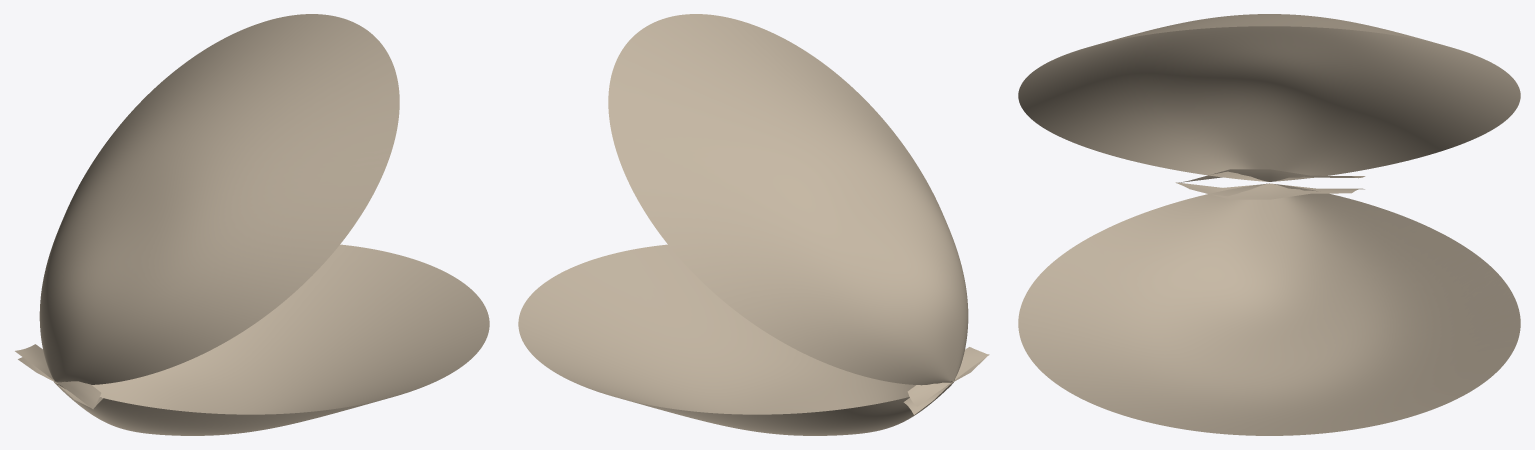
File: 3dcodebench_Scallop_seed0.glb
3 renders of one model, left to right at view 1: azimuth 30°, elevation 25°; view 2: azimuth 150°, elevation 25°; view 3: azimuth 270°, elevation 25°, orthographic. The views are drawn at different scales.
Parts seen in each view (by area): view 1: object; view 2: object; view 3: object.
Boxes of the visible parts, x1,y1,x2,y2 form: object: (15, 14, 489, 435); object: (518, 14, 989, 435); object: (1018, 14, 1520, 435).
Size of the model in its own units: 1.1 by 0.8678 by 0.916.
